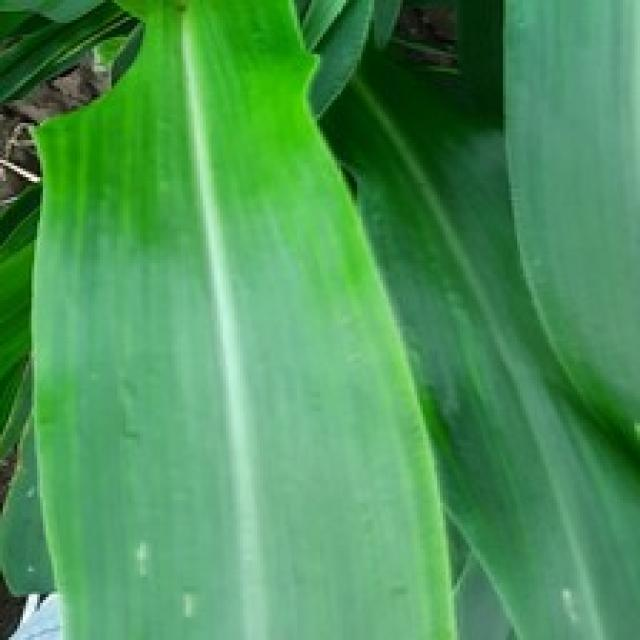Corn: (0, 0, 637, 637), (497, 0, 637, 474), (0, 177, 43, 597)
